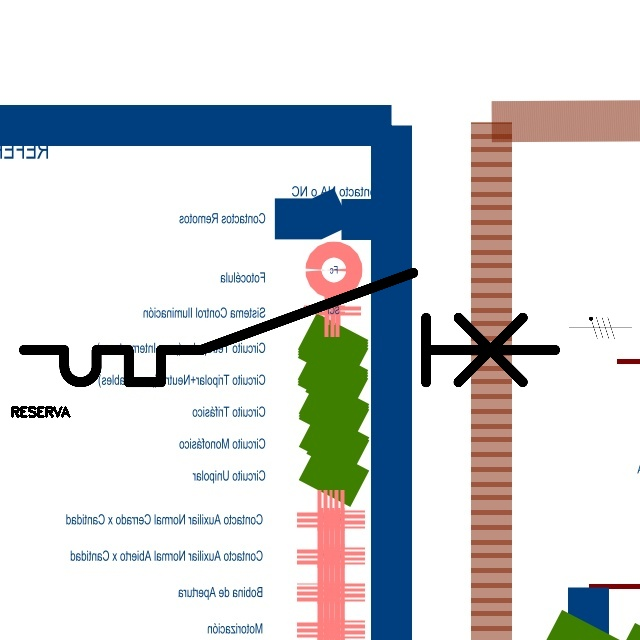interruptor_termomagnetico: (10, 259, 569, 396)
